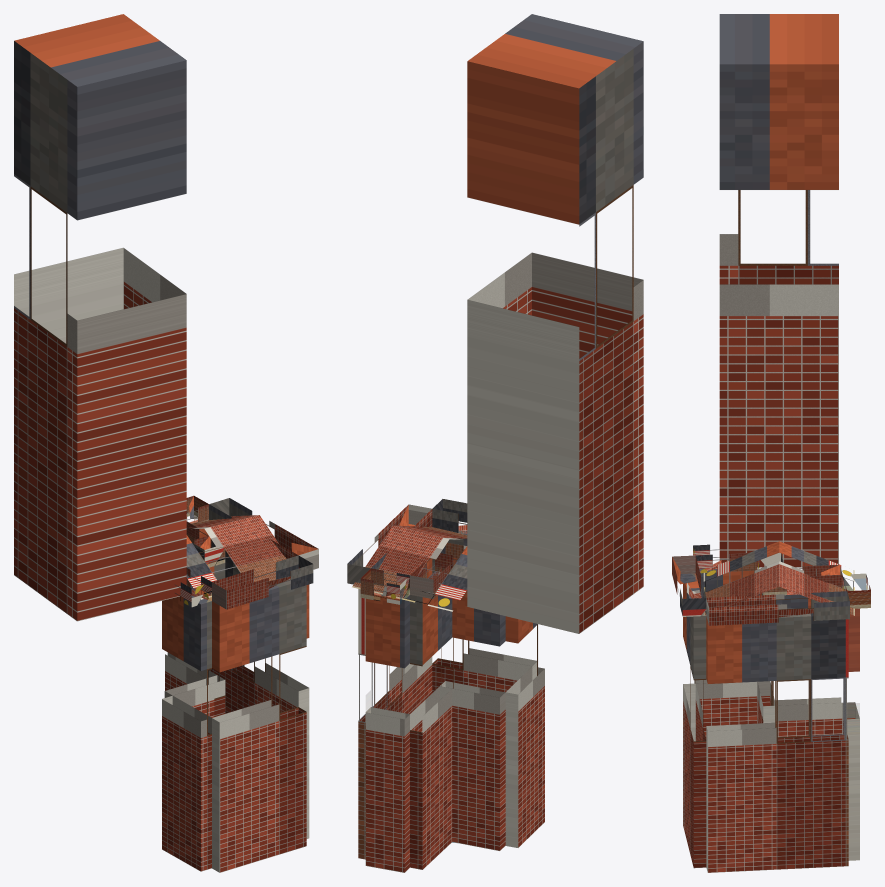
3 views of the same model, side by side, from view 1: azimuth 30°, elevation 25°; view 2: azimuth 150°, elevation 25°; view 3: azimuth 270°, elevation 25° (orthographic). The views are drawn at different scales.
Parts seen in each view (by area): view 1: 1107169175__chimney_0_xb, 1107169175__wall_2_xb, 1107169175__wall_3_xb, 1107169175__wall_1_xb, 1107169175_roof_-1_xb, 1107169175__cornice_2, 1107169175__cornice_1, 1107169175__wall_4_xb, 1107169175__wall_5_xb, 1107169175__cornice_3; view 2: 1107169175__chimney_0_xb, 1107169175__wall_4_xb, 1107169175__wall_0_xb, 1107169175__wall_5_xb, 1107169175__wall_3_xb, 1107169175_roof_1_xb, 1107169175__wall_1_xb, 1107169175__wall_2_xb, 1107169175__cornice_1, 1107169175__cornice_0, 1107169175__cornice_2, 1107169175__cornice_5; view 3: 1107169175__chimney_0_xb, 1107169175__wall_1_xb, 1107169175__wall_2_xb, 1107169175__cornice_1, 1107169175__wall_3_xb, 1107169175__wall_5_xb, 1107169175__wall_0_xb, 1107169175_roof_-1_xb, 1107169175_roof_1_xb, 1107169175__cornice_2, 1107169175__cornice_3, 1107169175__wall_4_xb (+2 smaller).
Boxes of the visible parts, <box> form: 1107169175__chimney_0_xb: <box>14,14,186,621</box>; 1107169175__wall_2_xb: <box>212,578,306,872</box>; 1107169175__wall_3_xb: <box>162,596,211,871</box>; 1107169175__wall_1_xb: <box>209,551,309,838</box>; 1107169175_roof_-1_xb: <box>186,515,286,599</box>; 1107169175__cornice_2: <box>212,555,313,609</box>; 1107169175__cornice_1: <box>209,498,318,569</box>; 1107169175__wall_4_xb: <box>164,563,225,717</box>; 1107169175__wall_5_xb: <box>165,563,225,716</box>; 1107169175__cornice_3: <box>174,568,211,607</box>; 1107169175__chimney_0_xb: <box>467,14,643,633</box>; 1107169175__wall_4_xb: <box>440,590,505,850</box>; 1107169175__wall_0_xb: <box>365,592,409,872</box>; 1107169175__wall_5_xb: <box>410,571,453,869</box>; 1107169175__wall_3_xb: <box>505,616,544,847</box>; 1107169175_roof_1_xb: <box>352,525,467,611</box>; 1107169175__wall_1_xb: <box>358,558,432,859</box>; 1107169175__wall_2_xb: <box>432,530,536,692</box>; 1107169175__cornice_1: <box>347,504,432,584</box>; 1107169175__cornice_0: <box>360,568,409,604</box>; 1107169175__cornice_2: <box>432,499,467,533</box>; 1107169175__cornice_5: <box>410,545,466,599</box>; 1107169175__chimney_0_xb: <box>719,14,838,567</box>; 1107169175__wall_1_xb: <box>706,613,848,872</box>; 1107169175__wall_2_xb: <box>683,573,706,868</box>; 1107169175__cornice_1: <box>706,591,849,625</box>; 1107169175__wall_3_xb: <box>694,568,757,739</box>; 1107169175__wall_5_xb: <box>762,593,842,737</box>; 1107169175__wall_0_xb: <box>842,608,859,860</box>; 1107169175_roof_-1_xb: <box>703,541,779,615</box>; 1107169175_roof_1_xb: <box>779,541,854,615</box>; 1107169175__cornice_2: <box>672,555,706,616</box>; 1107169175__cornice_3: <box>693,544,757,573</box>; 1107169175__wall_4_xb: <box>757,593,775,723</box>.
Bounding box in the file's own units: 0.3233 × 1.05 × 0.2505.
Materials: 1 (1 with a texture image).
